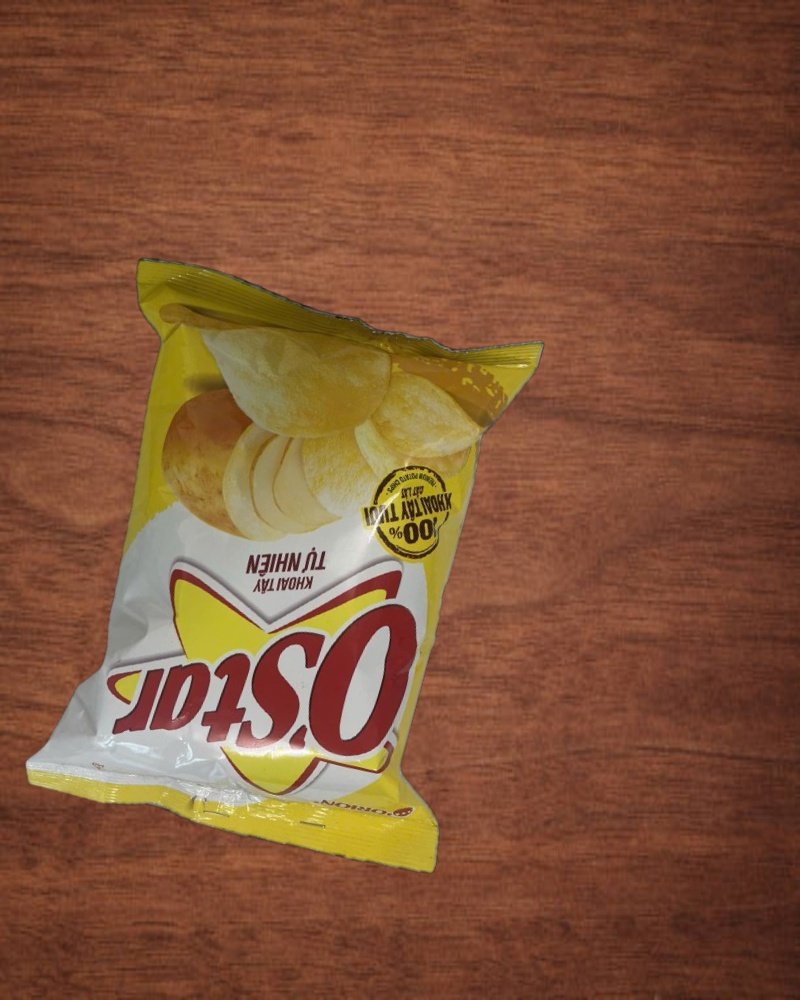Snack cua: (7, 243, 570, 885)
